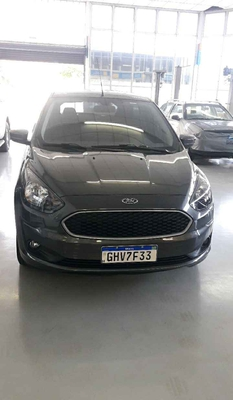Frontal Veiculo: (8, 93, 214, 274)
